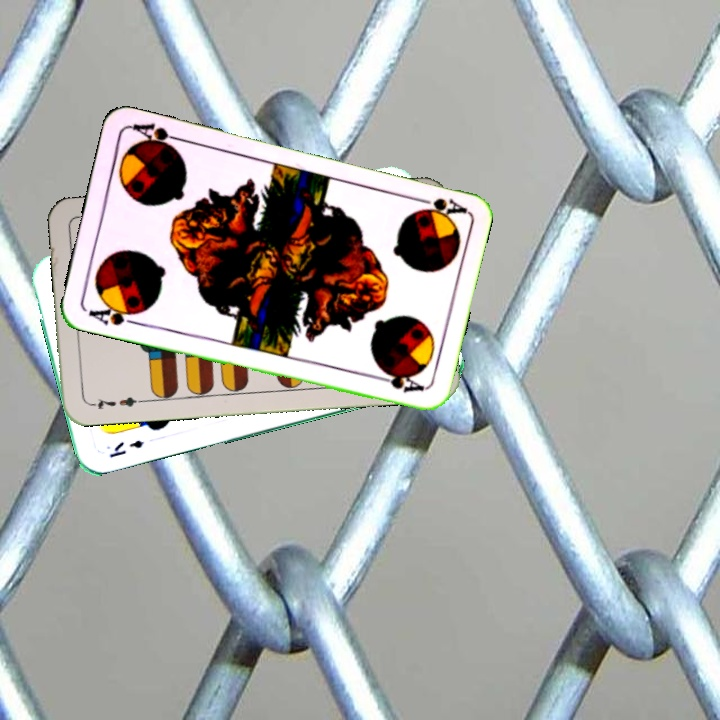E7: (86, 393, 145, 412)
EK: (105, 436, 147, 461)
SA: (84, 299, 144, 328), (409, 192, 468, 218)
